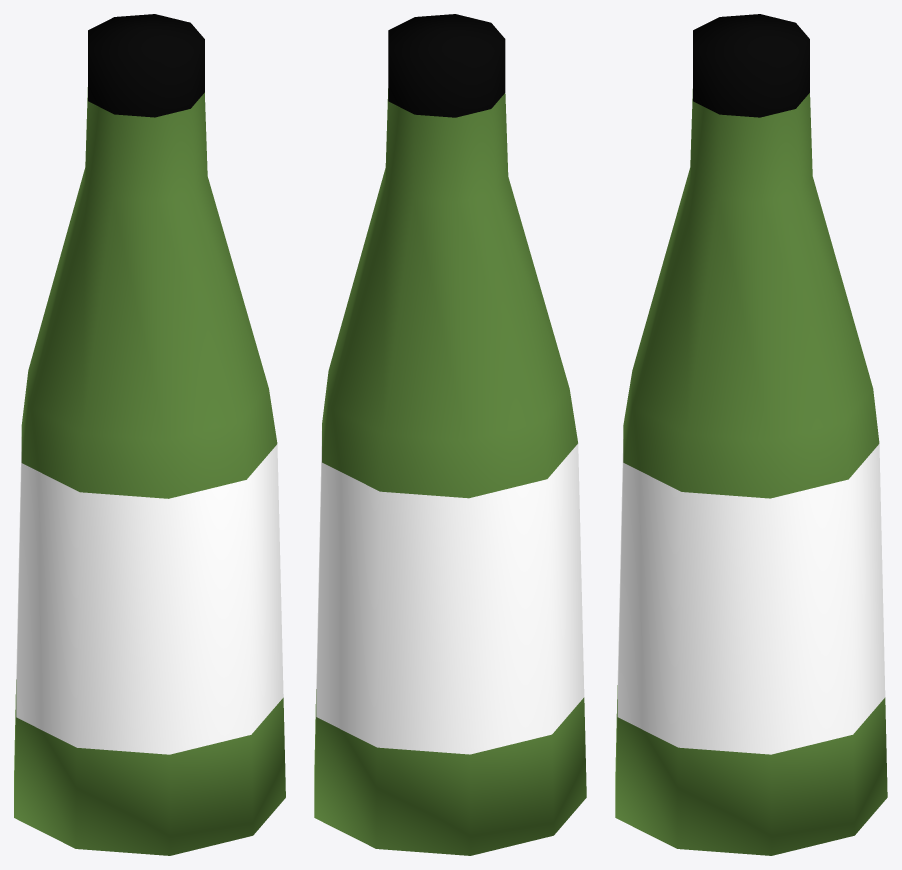
File: HotSauceGreen.glb
3 views of the same model, side by side, from view 1: azimuth 30°, elevation 25°; view 2: azimuth 150°, elevation 25°; view 3: azimuth 270°, elevation 25° (orthographic).
Parts seen in each view (by area): view 1: HotSauceGreen; view 2: HotSauceGreen; view 3: HotSauceGreen.
Boxes of the visible parts, x1,y1,x2,y2 form: HotSauceGreen: (14, 14, 285, 855); HotSauceGreen: (314, 14, 586, 855); HotSauceGreen: (615, 14, 887, 855).
Bounding box in the file's own units: 0.0985 × 0.3015 × 0.097.
1 material, 1 textured.
